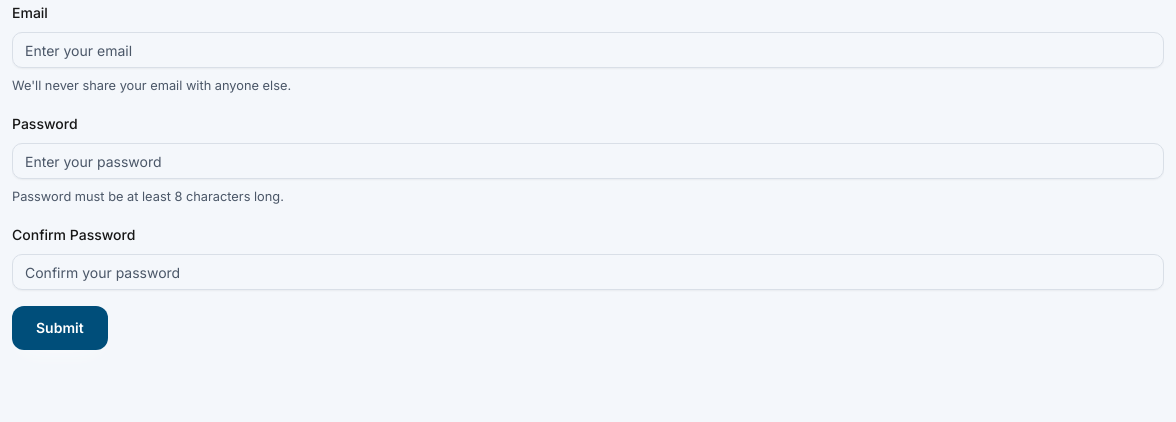
it: Form Components › Form Validation › shows email validation error
The width and height of the screenshot is (1176, 422).
Type "invalid-email" into the field labelled "Email". click: (588, 50)
box: [12, 32, 1164, 68]
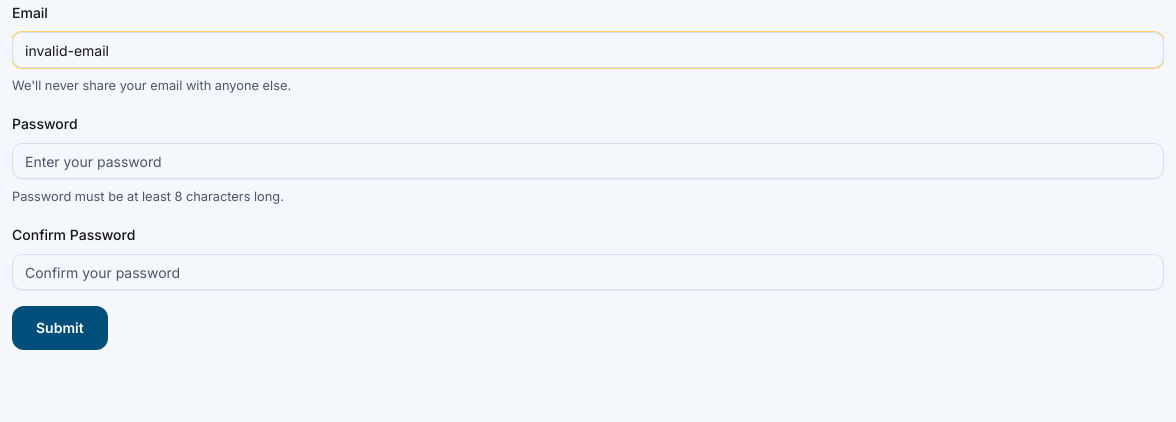
Click the button "Submit". click: (60, 328)
box: [12, 306, 108, 350]
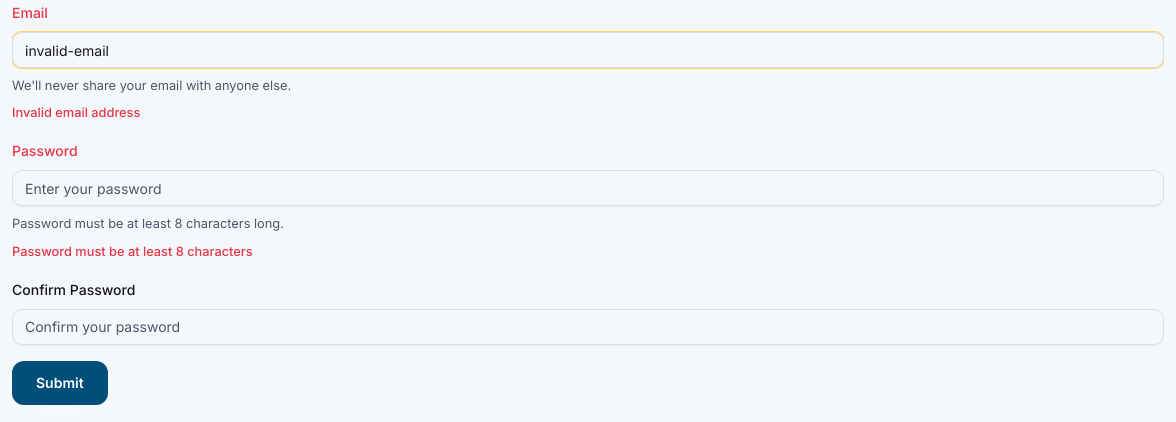
Result: the text "Invalid email address" is shown at [12, 105, 140, 120]
